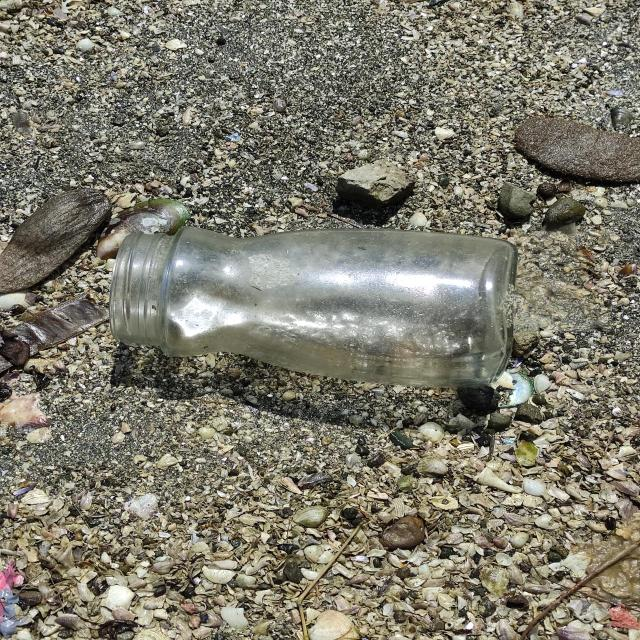plastic_waste: (109, 226, 519, 392)
